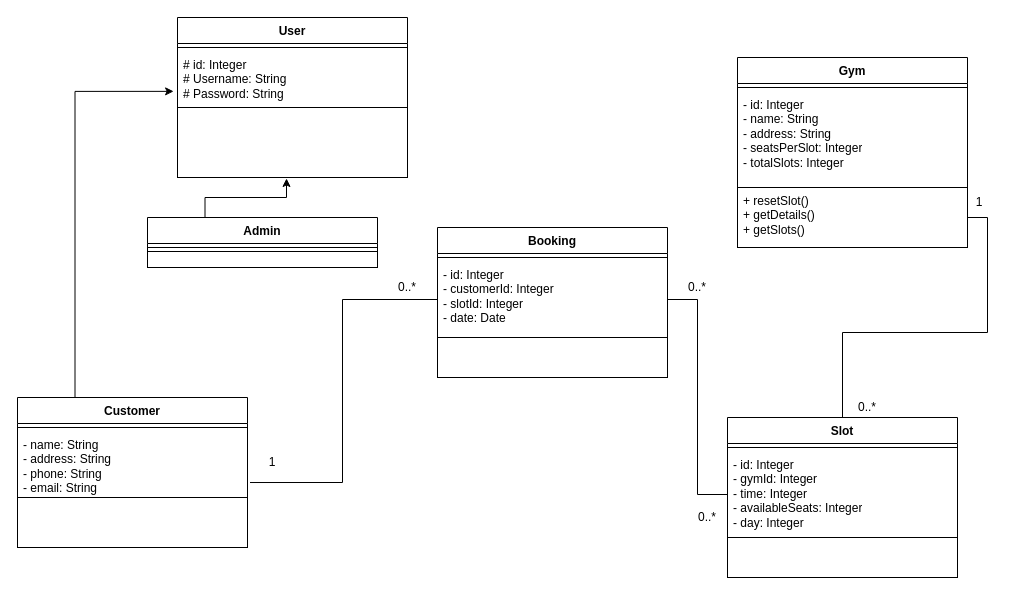
This 1012x598 diagram has some shape labels left out. The shapes that lost their labels are listed below. From the top down, each one's centre as x and y in pixels, then its label:
At point 292,142: "+ register() + login() + logout() + resetPassword()".
At point 552,357: "+ bookSeat() + cancelBooking()".
At point 132,522: "+ getDetails() + editDetails()".
At point 842,557: "+ getDetails() + isSeatAvailable()".
